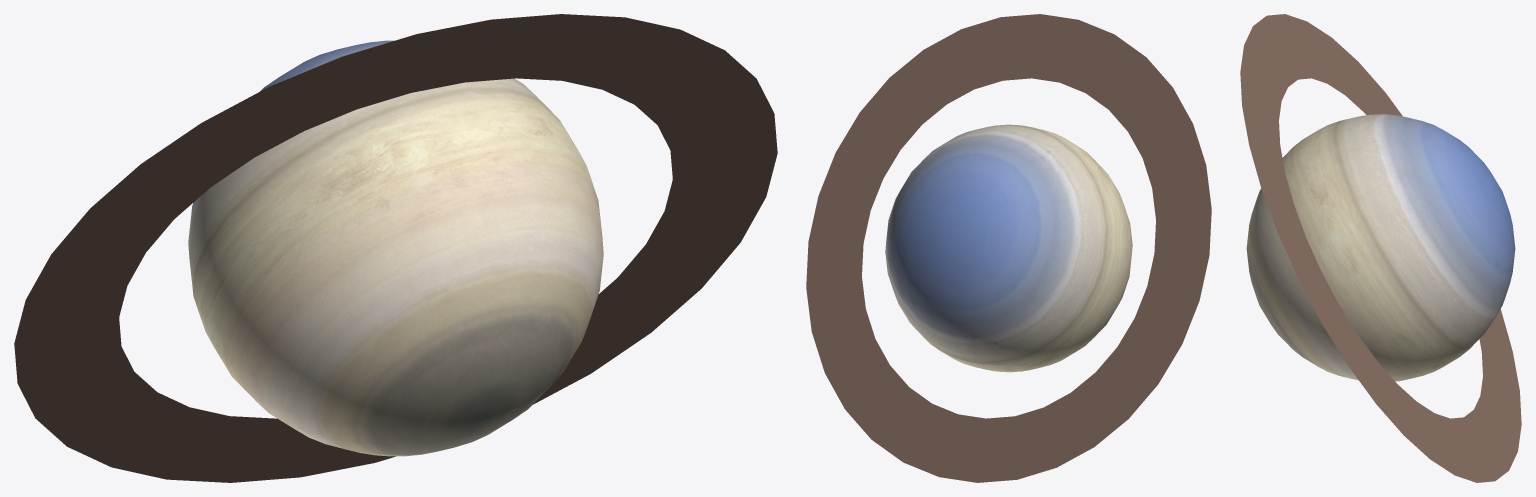
File: saturn.obj
3 views of the same model, side by side, from view 1: azimuth 30°, elevation 25°; view 2: azimuth 150°, elevation 25°; view 3: azimuth 270°, elevation 25° (orthographic). The views are drawn at different scales.
Visible parts, largest first — view 1: Sphere, Circle; view 2: Circle, Sphere; view 3: Sphere, Circle.
Part boxes in pixels (x1,y1,x2,y2): Sphere: (188, 40, 603, 456); Circle: (14, 14, 777, 482); Circle: (806, 14, 1211, 482); Sphere: (885, 124, 1132, 372); Sphere: (1246, 114, 1515, 381); Circle: (1240, 14, 1521, 482).
Size of the model in its own units: 3.83 by 3.28 by 2.09.
2 materials, 2 textured.
